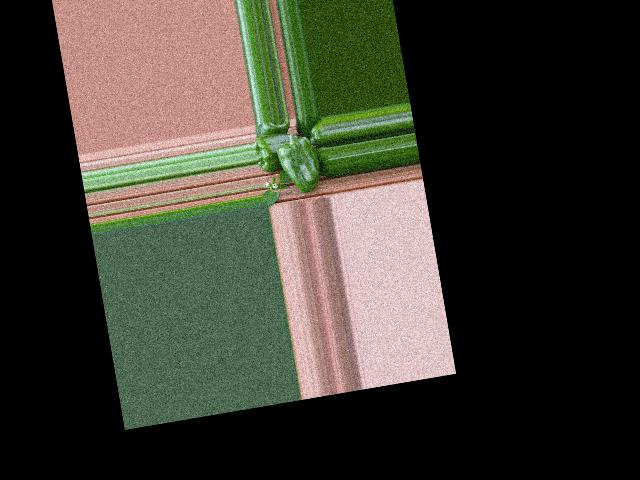bell_pepper: (305, 116, 327, 144)
